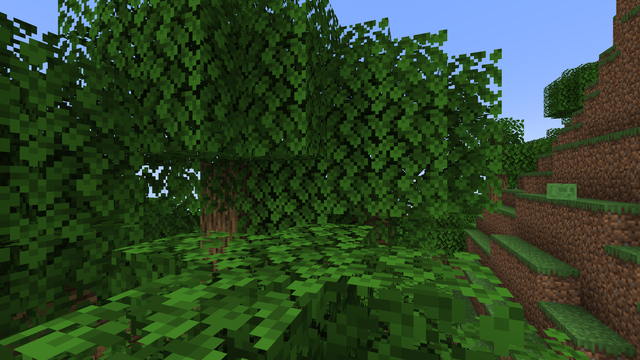slimes: (547, 182, 575, 198)
